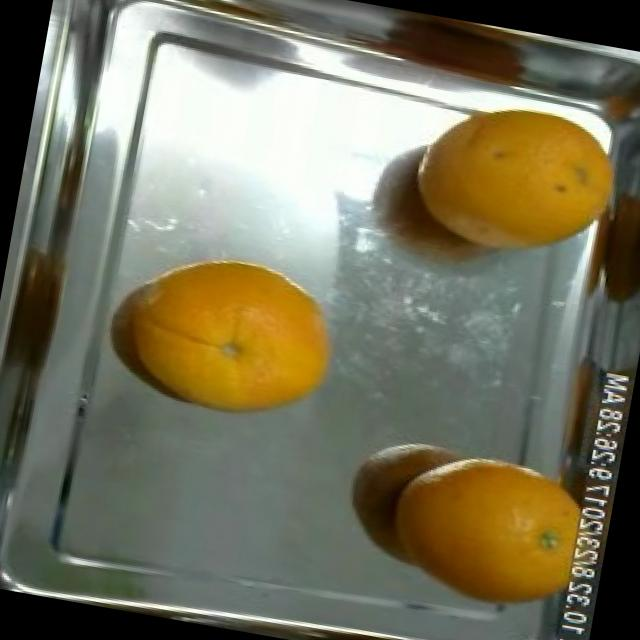Fruit: (354, 432, 608, 638), (400, 88, 637, 288), (562, 170, 640, 320)
